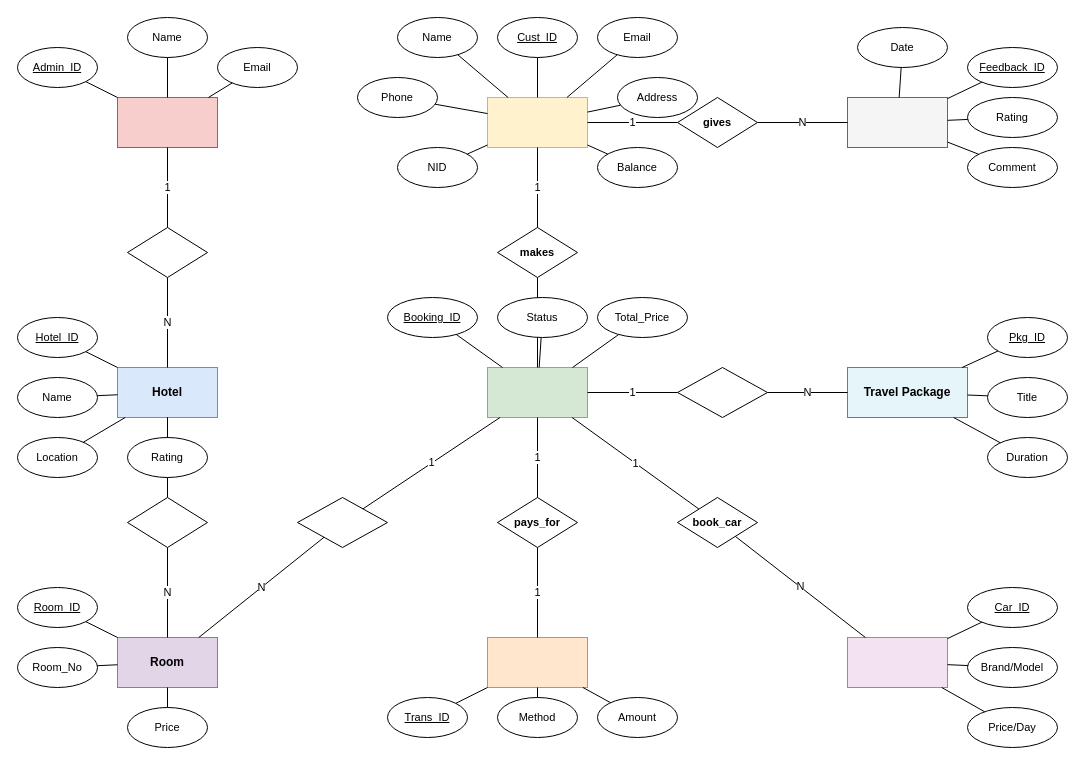
Image size: 1085x765. Some labels were removed from this diagram. Each missing label, with the centre of its shape:
"Admin" goes at pixel 167 122.
"book_room" goes at pixel 342 522.
"book_travel" goes at pixel 722 392.
"Booking" goes at pixel 537 392.
"Car Rental" goes at pixel 897 662.
"Customer" goes at pixel 537 122.
"Feedback" goes at pixel 897 122.
"has" goes at pixel 167 522.
"manages" goes at pixel 167 252.
"Payment" goes at pixel 537 662.
